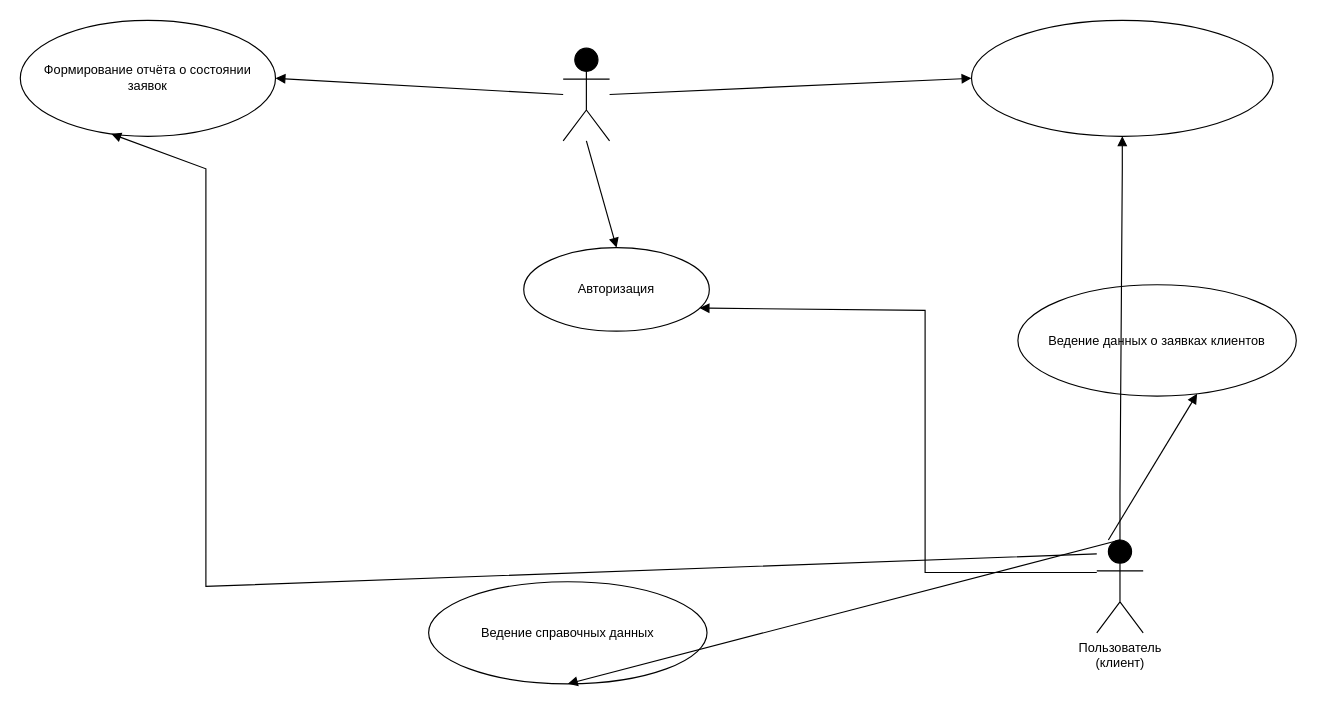
Some shapes in this 1317 by 713 pixel diagram are drawn without their labels. The box of each missing label's shape, as (x1, y1, x2, y2) in pixels:
Администратор (менеджер мастерской): (562, 47, 610, 141)
Формирование реестра заявок, приоритетных к обработке: (970, 19, 1273, 136)
